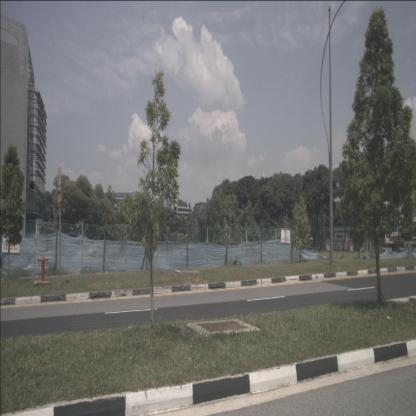vehicle-bus-rigid: (376, 243, 395, 255), (404, 235, 415, 255), (391, 243, 408, 254)
